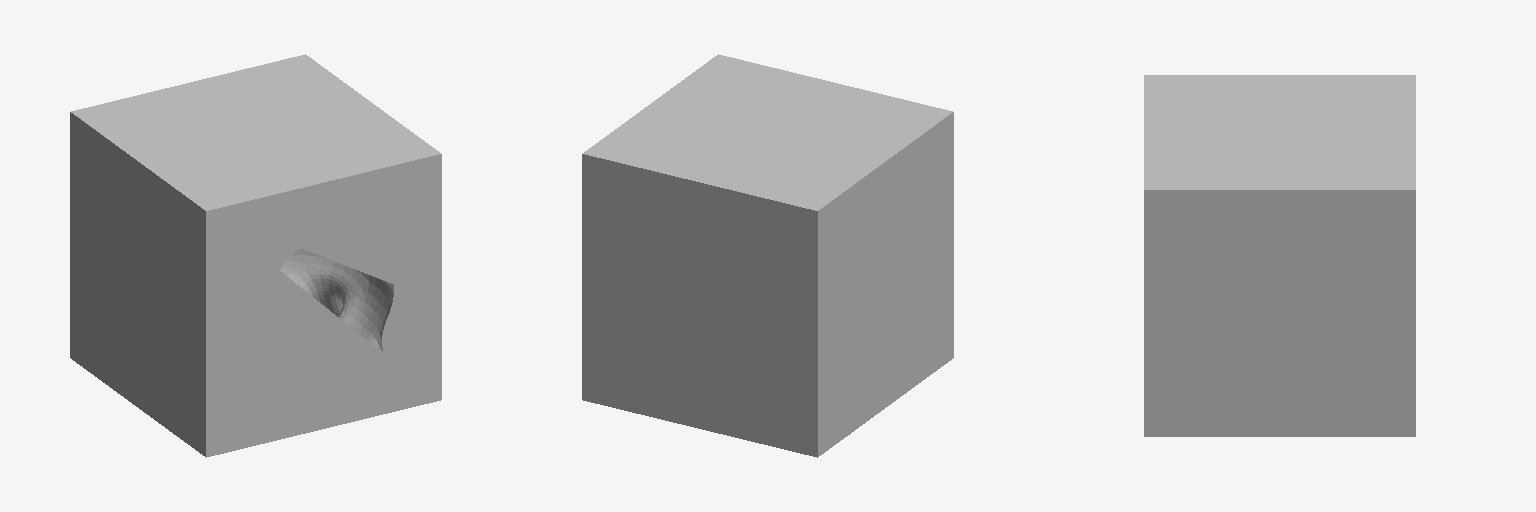
Rendered from pigContainer.obj.
The picture shows the model from 3 angles: view 1: azimuth 30°, elevation 25°; view 2: azimuth 150°, elevation 25°; view 3: azimuth 270°, elevation 25°; orthographic projection.
Parts seen in each view (by area): view 1: Cube_Cube.012; view 2: Cube_Cube.012; view 3: Cube_Cube.012.
Boxes of the visible parts, x1=… form: Cube_Cube.012: x1=70, y1=54, x2=441, y2=457; Cube_Cube.012: x1=582, y1=54, x2=953, y2=457; Cube_Cube.012: x1=1144, y1=75, x2=1415, y2=436.
Size of the model in its own units: 6.2 by 6.2 by 6.2.